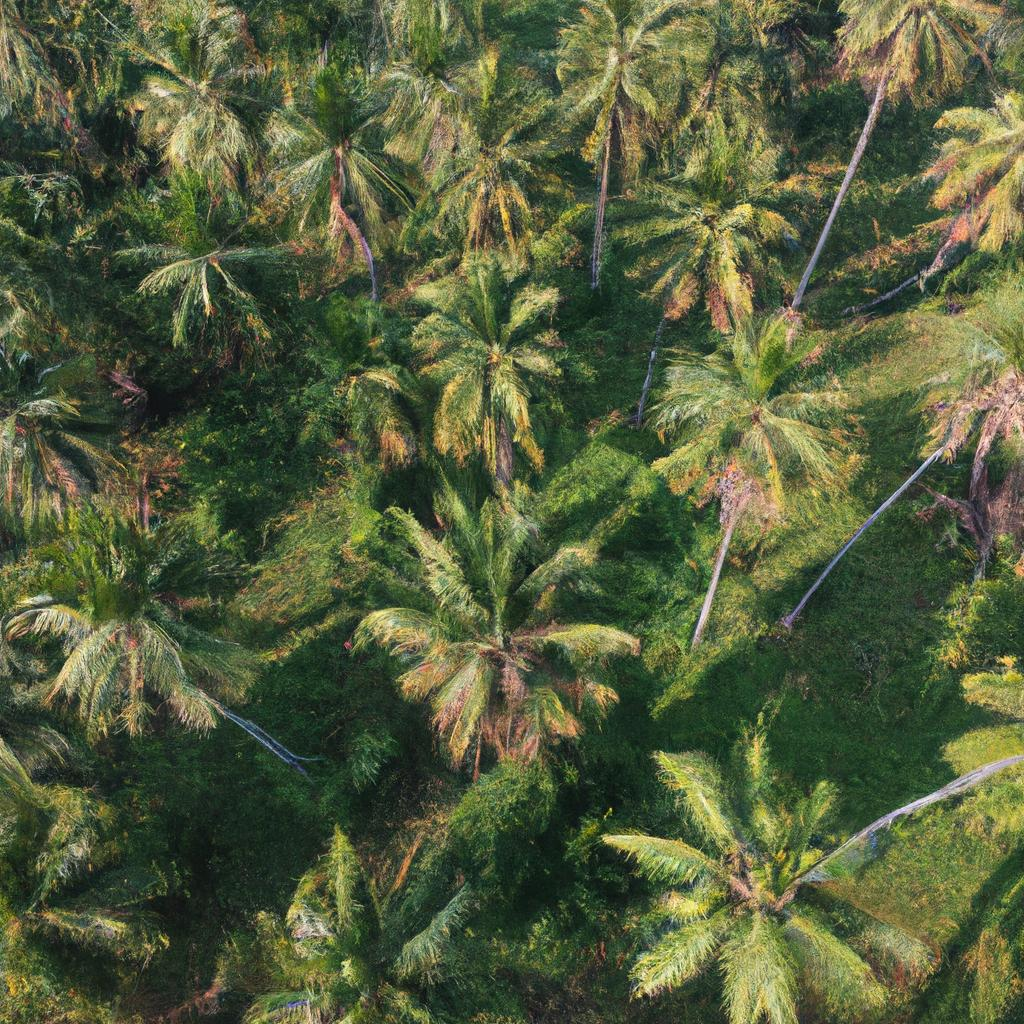coconut_tree: (607, 724, 908, 1023), (0, 480, 289, 764), (364, 480, 643, 764), (640, 302, 885, 559), (393, 253, 613, 470), (601, 140, 815, 315)
